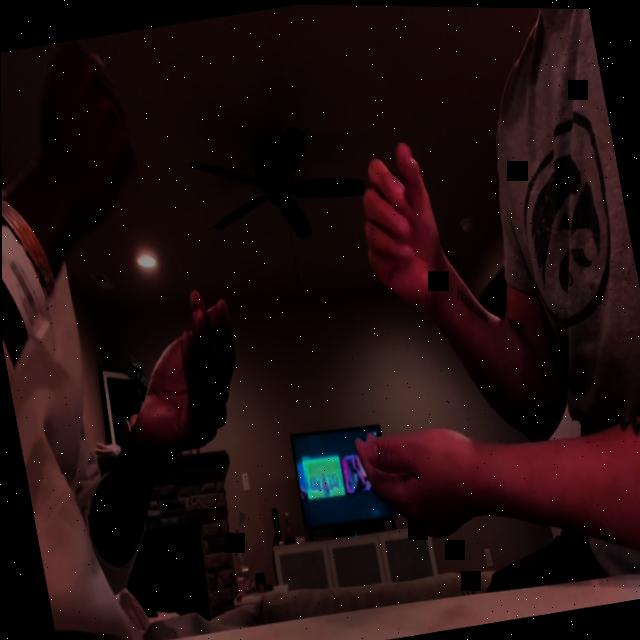Rock: (26, 32, 144, 230)
